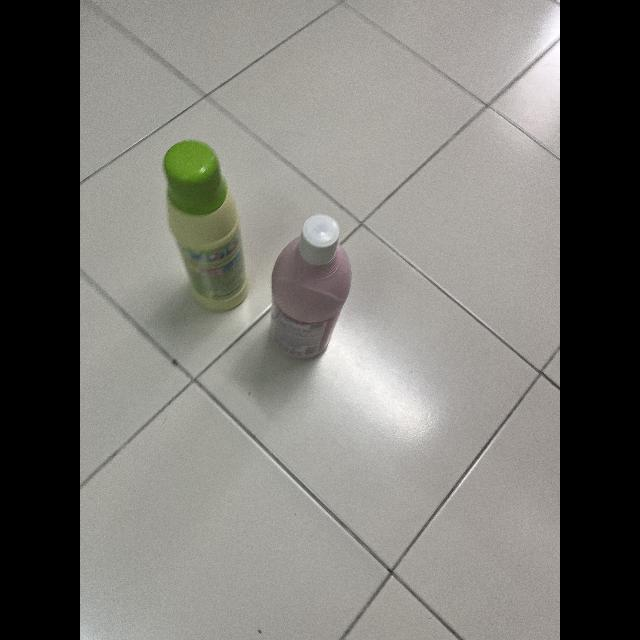chemical_plastic_bottle: (161, 137, 253, 316), (268, 211, 352, 363)
